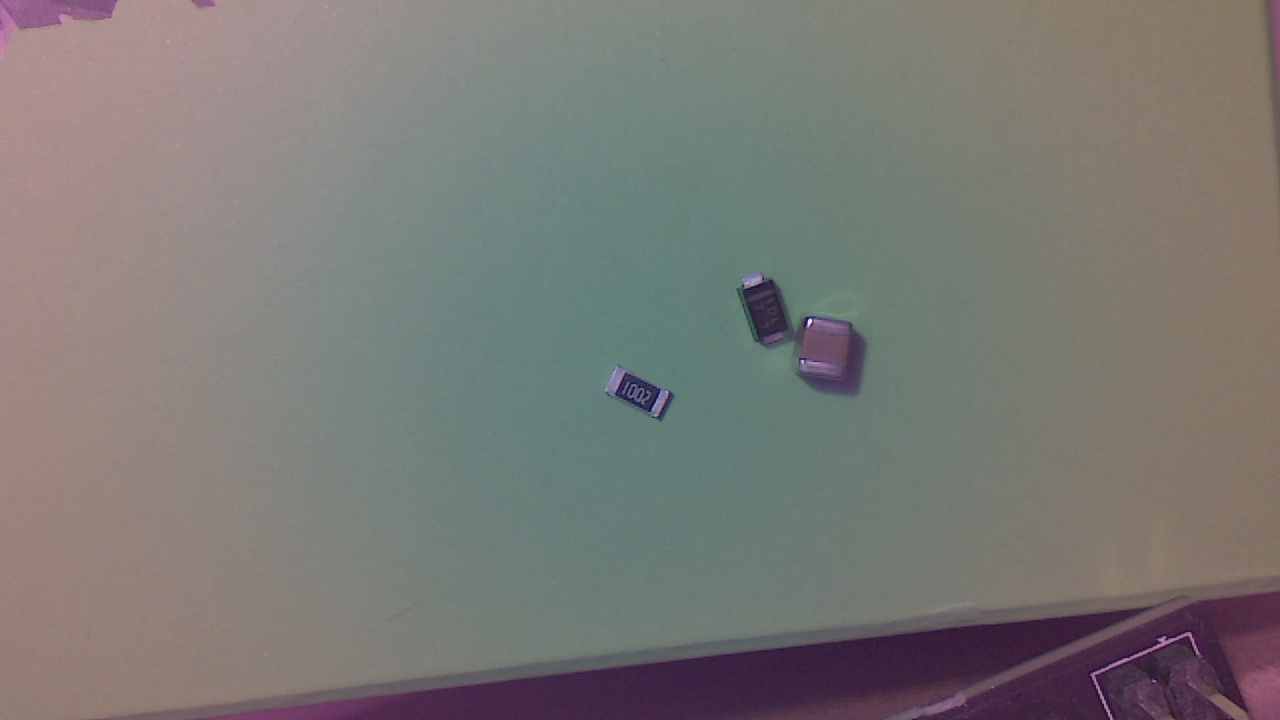Condensator: (802, 323, 871, 386)
Diode: (743, 283, 797, 354)
Resistor: (610, 372, 678, 422)
